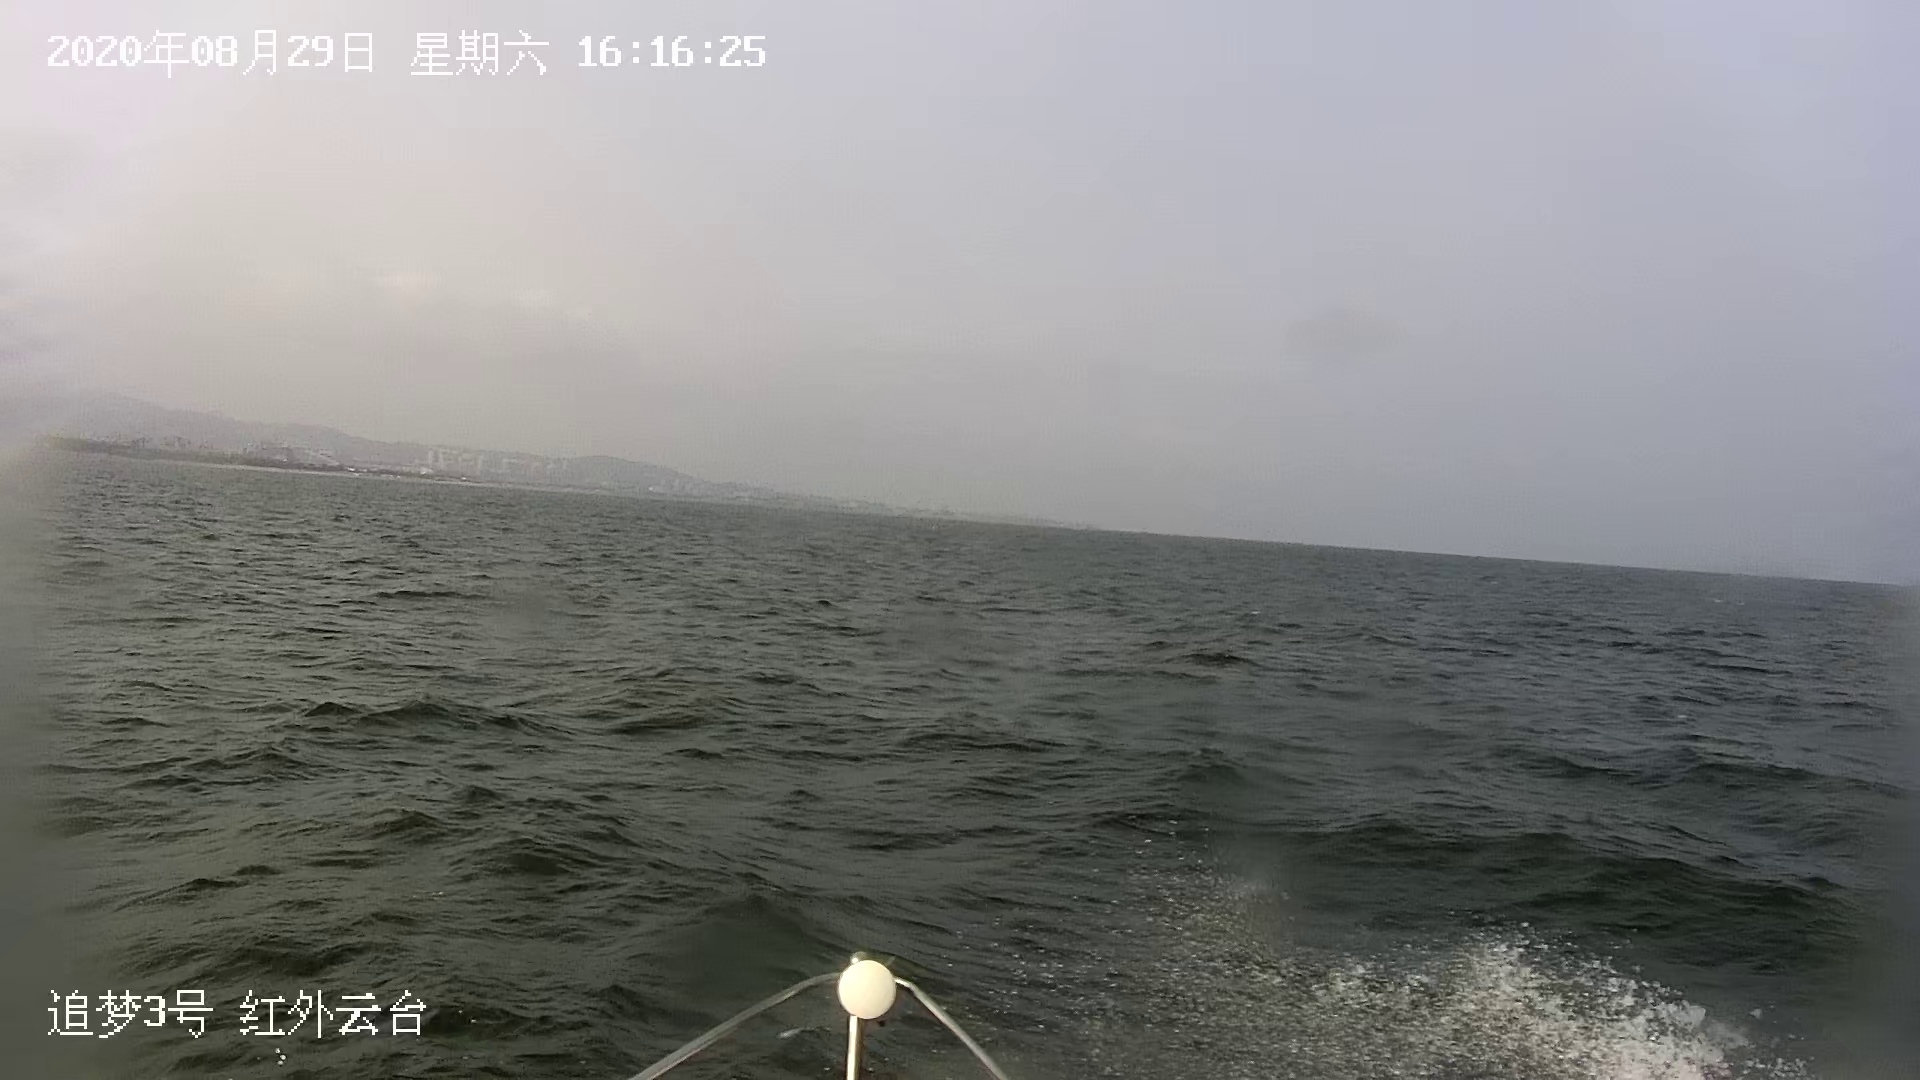coast: (25, 396, 963, 522)
